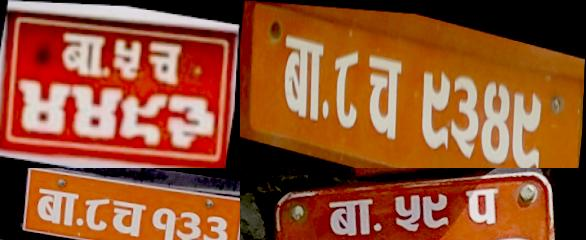1: (145, 201, 179, 240)
3: (447, 62, 485, 161), (162, 88, 220, 146), (173, 205, 205, 240), (199, 210, 233, 240)
4: (476, 66, 516, 168), (10, 74, 74, 136), (67, 79, 124, 142)
5: (383, 184, 427, 235), (108, 35, 146, 80)
8: (326, 40, 366, 138), (79, 191, 114, 232)
9: (415, 56, 456, 156), (507, 74, 550, 168), (120, 86, 169, 142), (418, 186, 457, 229)
ba: (275, 22, 327, 130), (320, 188, 383, 240), (57, 29, 110, 77), (29, 184, 82, 228)
cha: (360, 45, 408, 158), (143, 37, 187, 84), (107, 195, 149, 238)
pa: (457, 179, 505, 228)
